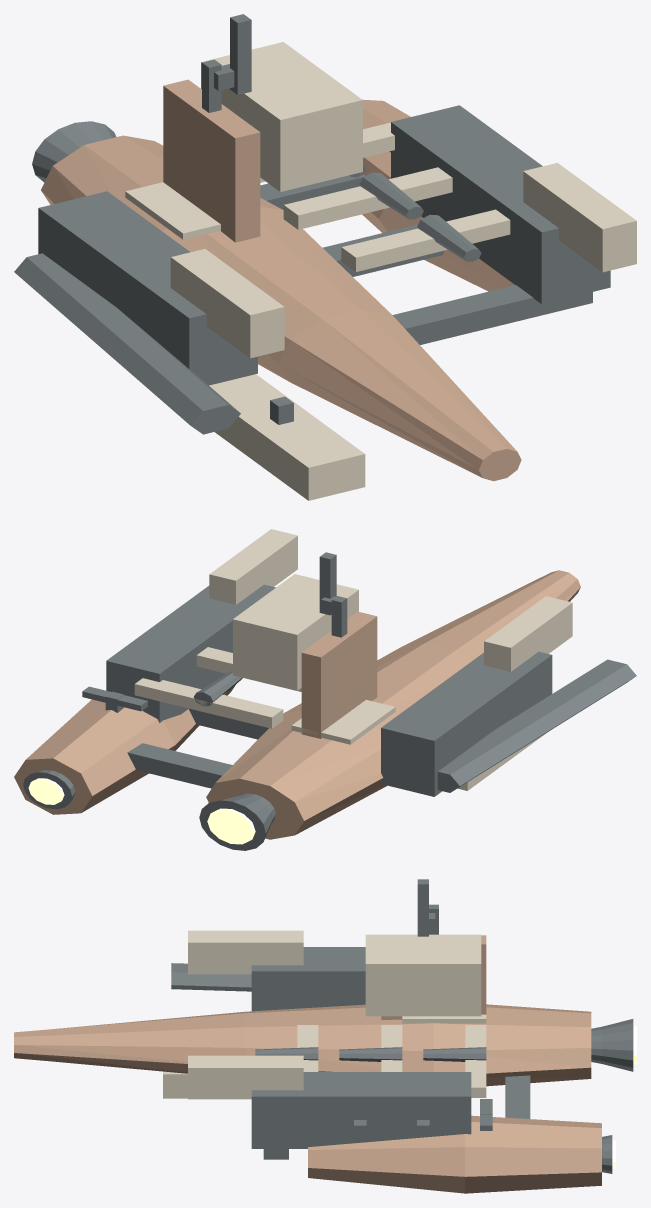
3 renders of one model, top to bottom at view 1: azimuth 30°, elevation 25°; view 2: azimuth 150°, elevation 25°; view 3: azimuth 270°, elevation 25°, orthographic. The views are drawn at different scales.
Bounding box in the file's own units: 15.01 × 9.01 × 21.56.
